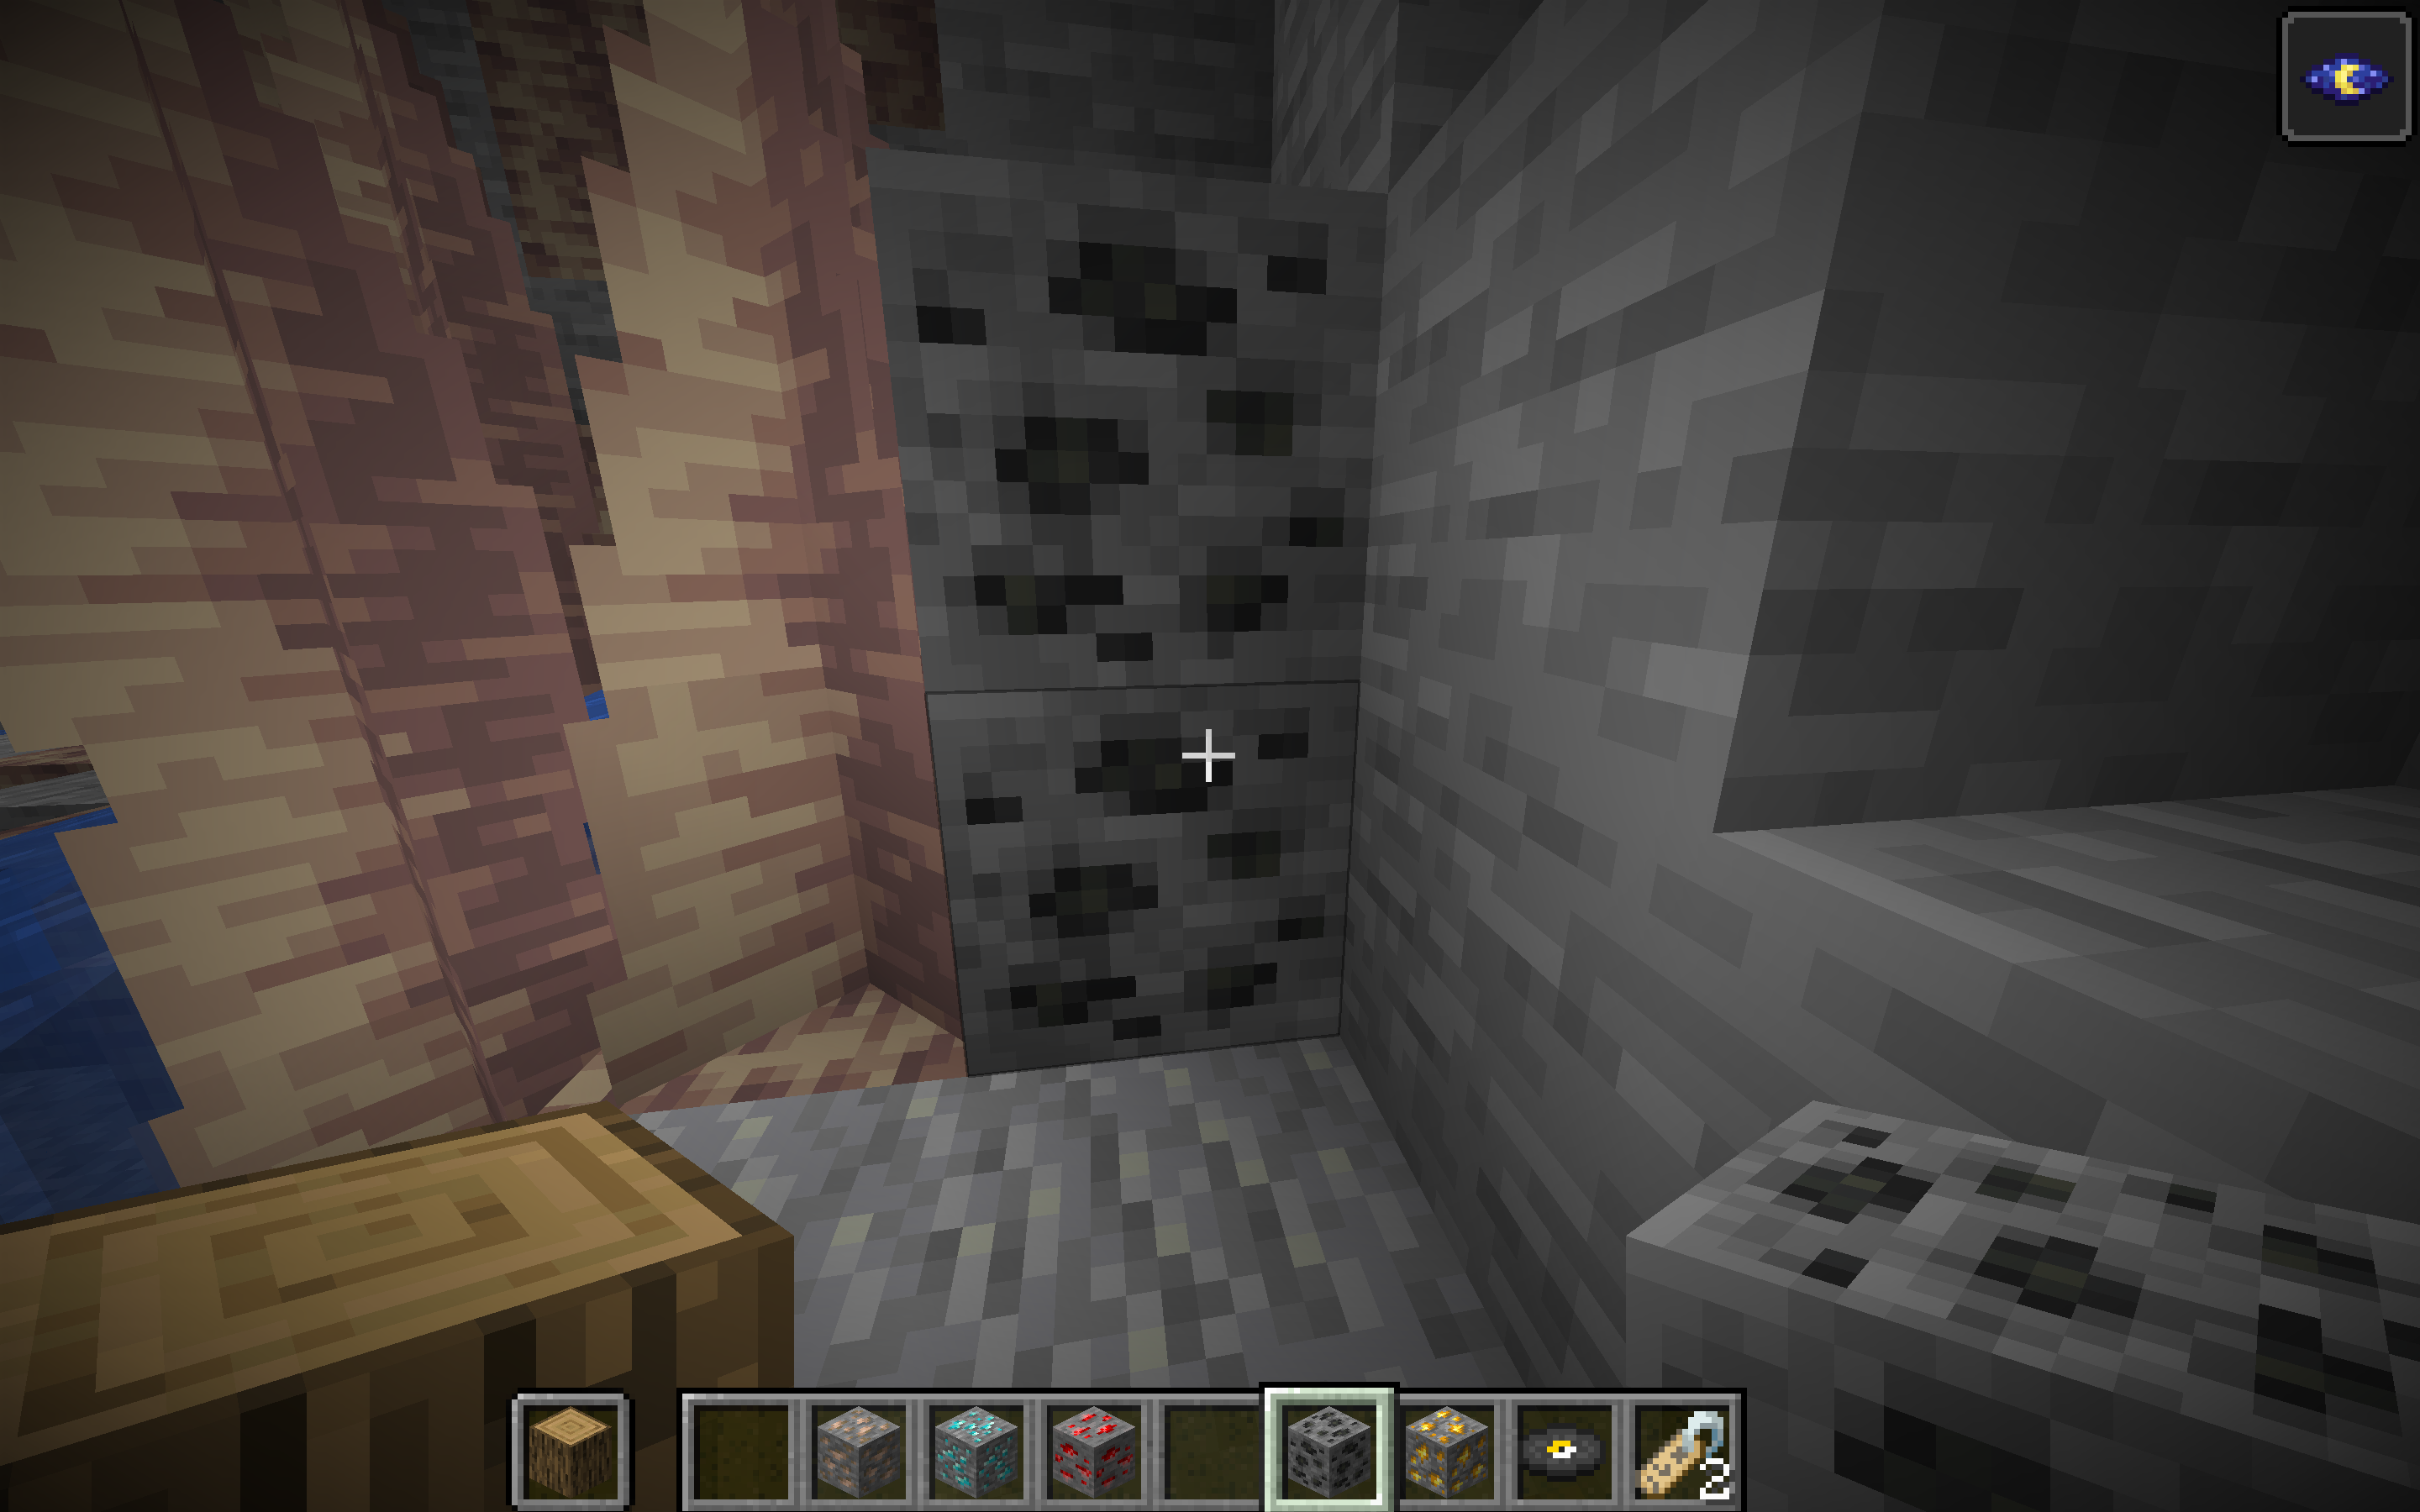coal: (96, 57, 1941, 1092)
